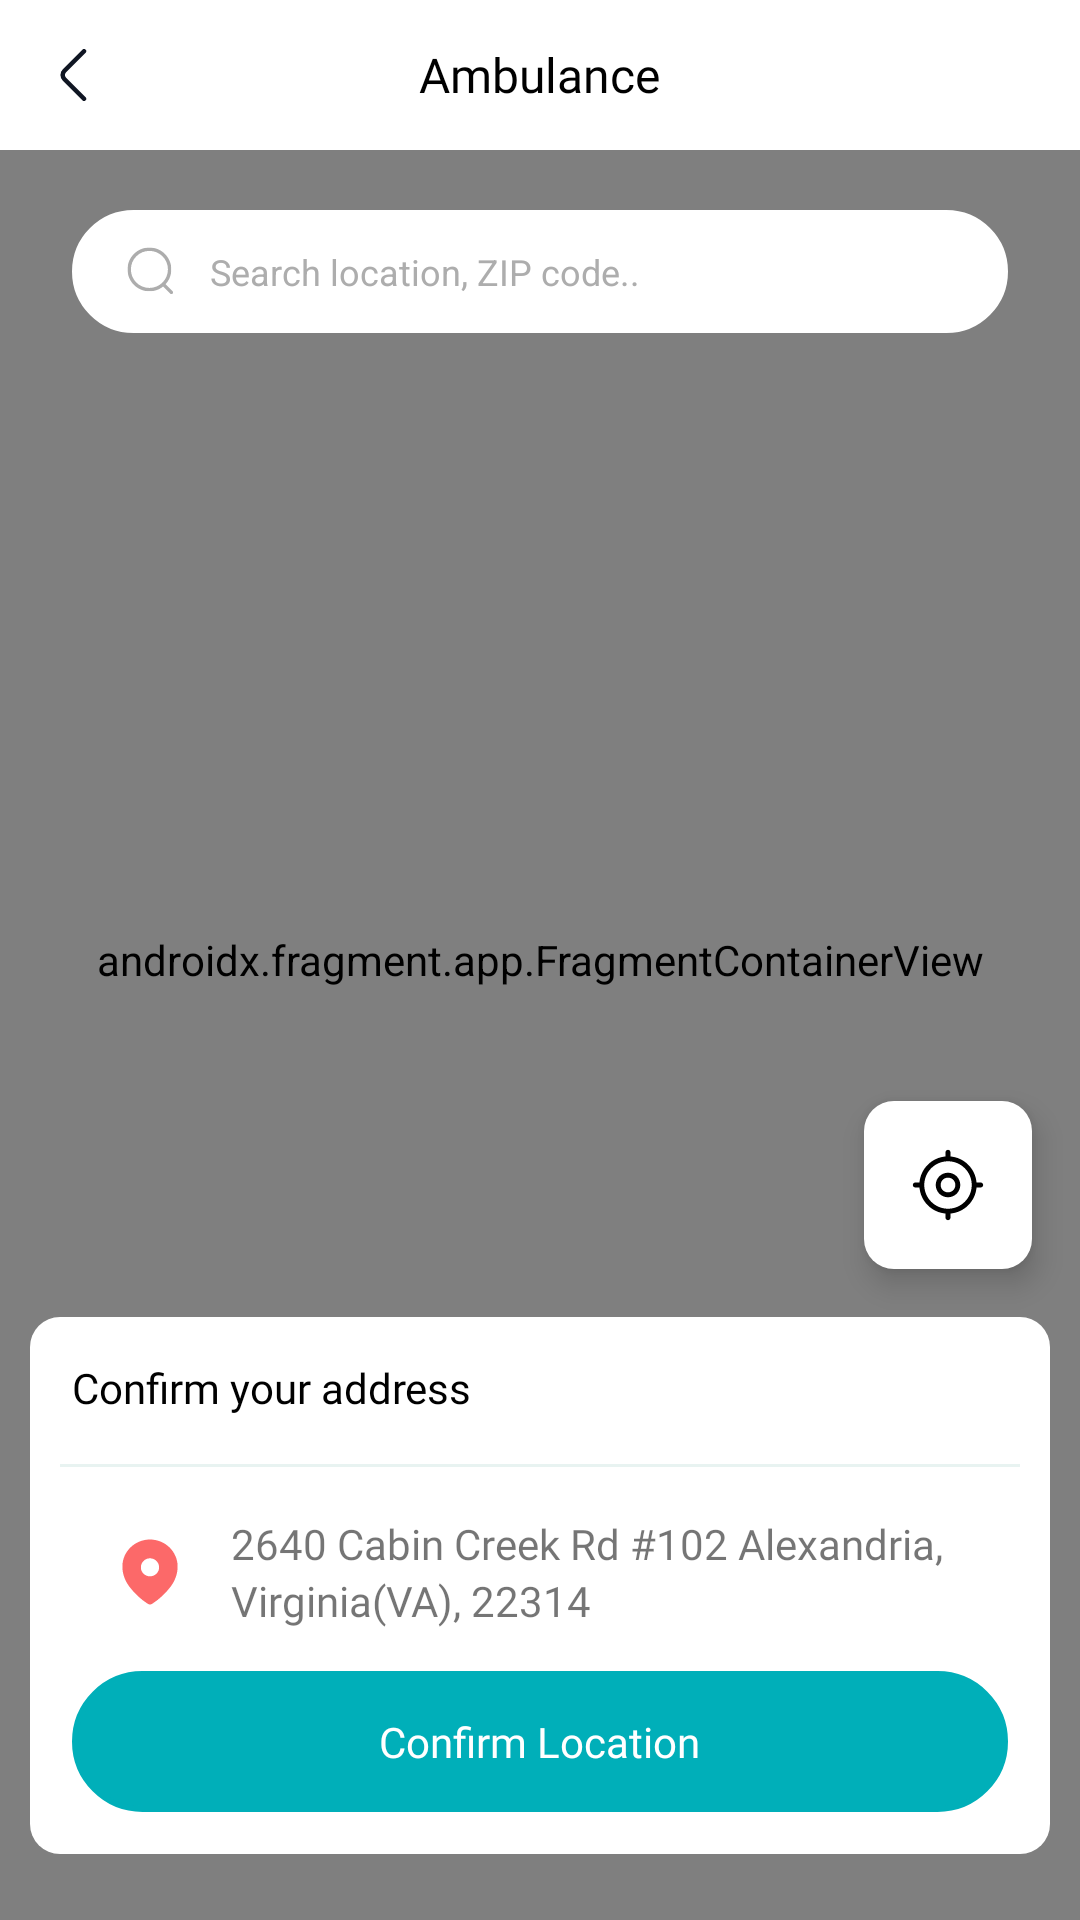

Locate icon controls on the screen. Image size 1080×1920, boxes as (x1, y1, x2, y2).
arrow: (60, 49, 87, 101)
location: (122, 1539, 178, 1605)
My Location: (864, 1101, 1032, 1269)
